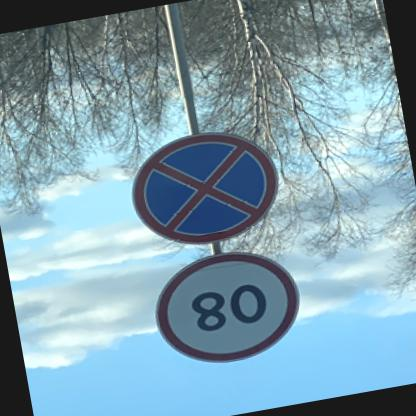speedlimit: (144, 242, 308, 374)
